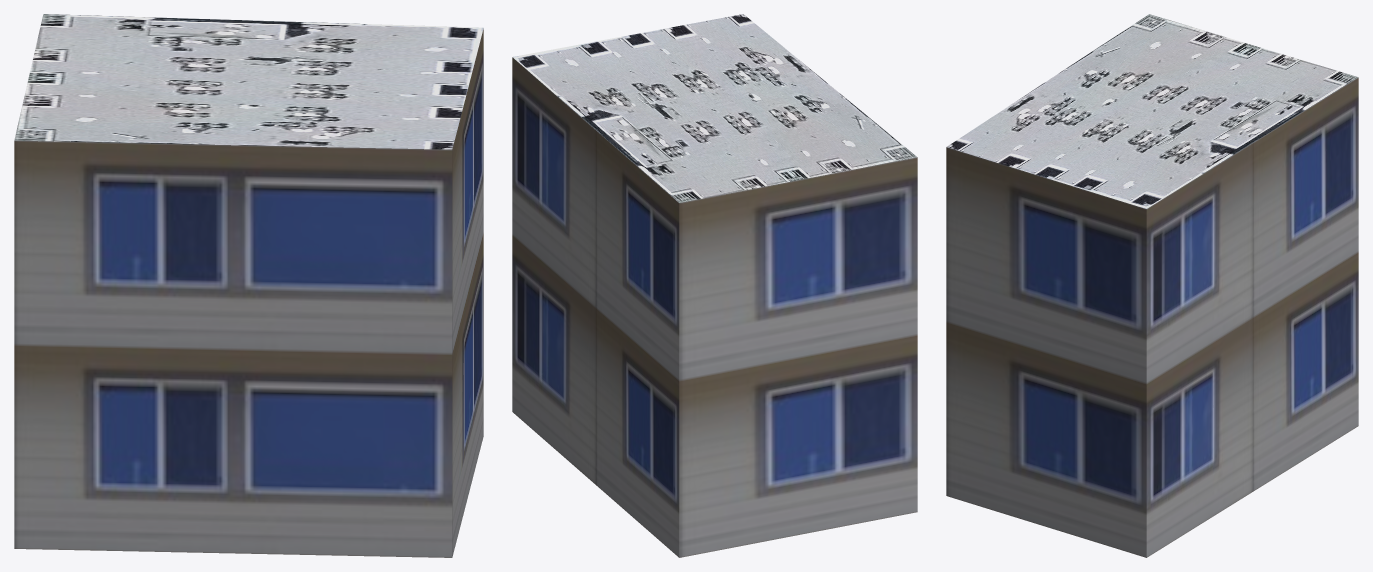
The model's file is ResTex__4101.fbx.
3 renders of one model, left to right at view 1: azimuth 30°, elevation 25°; view 2: azimuth 150°, elevation 25°; view 3: azimuth 270°, elevation 25°, orthographic. The views are drawn at different scales.
Visible parts, largest first — view 1: CityEngineMaterial_23_m, CityEngineMaterial_m; view 2: CityEngineMaterial_23_m, CityEngineMaterial_m; view 3: CityEngineMaterial_23_m, CityEngineMaterial_m.
Boxes of the visible parts, left/top/right/bottom form: CityEngineMaterial_23_m: left=14, top=29, right=483, bottom=557; CityEngineMaterial_m: left=14, top=14, right=483, bottom=149; CityEngineMaterial_23_m: left=512, top=57, right=917, bottom=557; CityEngineMaterial_m: left=512, top=14, right=917, bottom=202; CityEngineMaterial_23_m: left=946, top=77, right=1358, bottom=557; CityEngineMaterial_m: left=946, top=14, right=1358, bottom=208.
Size of the model in its own units: 7.2 by 6 by 6.43.
Materials: 2 (2 with a texture image).
